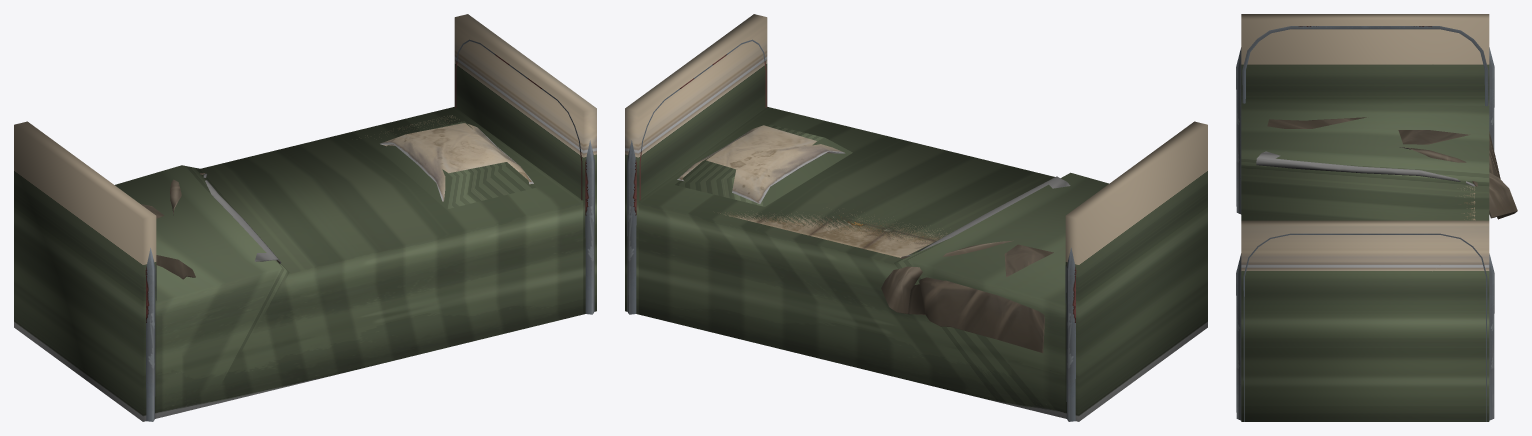
The model's file is bed03_B.fbx.
The picture shows the model from 3 angles, left to right: view 1: azimuth 30°, elevation 25°; view 2: azimuth 150°, elevation 25°; view 3: azimuth 270°, elevation 25°; orthographic projection. The views are drawn at different scales.
Parts seen in each view (by area): view 1: bed03_B_COL, bed03_B; view 2: bed03_B_COL, bed03_B; view 3: bed03_B_COL, bed03_B.
Part boxes in pixels (box(x1,y1,x2,y2)): bed03_B_COL: box(14, 14, 596, 421); bed03_B: box(141, 39, 594, 421); bed03_B_COL: box(625, 14, 1207, 421); bed03_B: box(627, 39, 1076, 421); bed03_B_COL: box(1241, 14, 1489, 421); bed03_B: box(1236, 26, 1517, 421).
Bounding box in the file's own units: 216 × 91.99 × 120.
